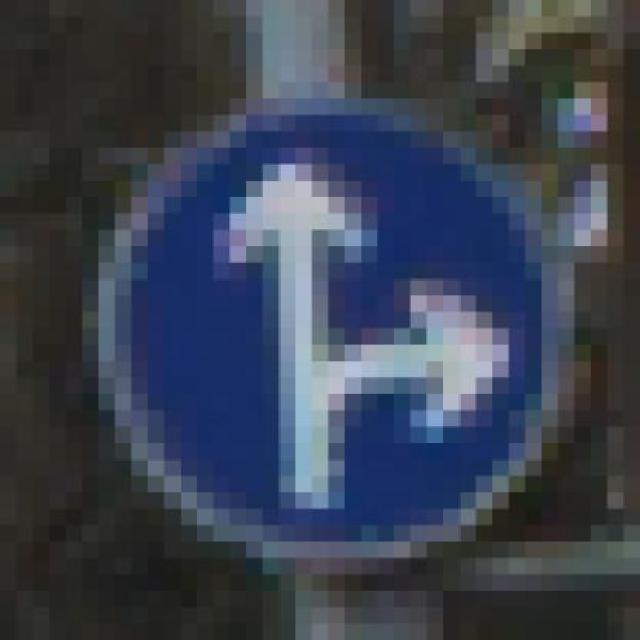Go Straight or Turn Right: (82, 66, 590, 574)
